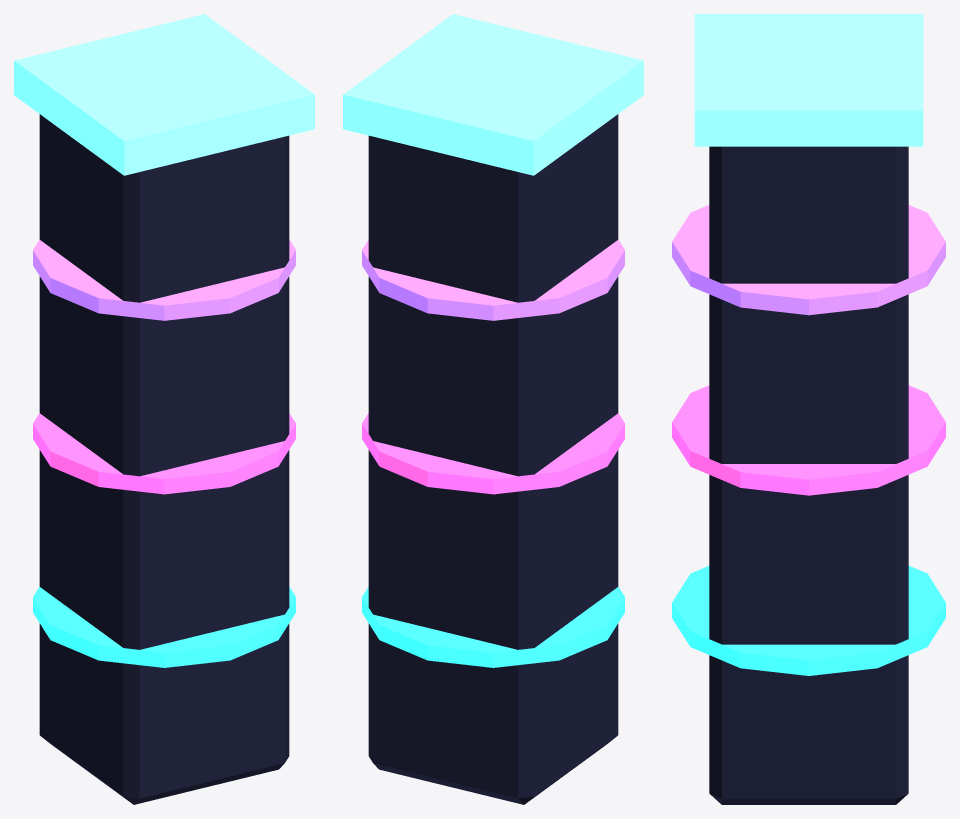
Rendered from hd_neon_pylon.gltf.
3 views of the same model, side by side, from view 1: azimuth 30°, elevation 25°; view 2: azimuth 150°, elevation 25°; view 3: azimuth 270°, elevation 25° (orthographic). The views are drawn at different scales.
Visible parts, largest first — view 1: post, tip, ring0, ring1, ring2; view 2: post, tip, ring0, ring1, ring2; view 3: post, tip, ring2, ring0, ring1.
Boxes of the visible parts, left/top/right/bottom form: post: left=39, top=114, right=289, bottom=804; tip: left=14, top=14, right=314, bottom=175; ring0: left=33, top=587, right=295, bottom=667; ring1: left=33, top=413, right=295, bottom=494; ring2: left=33, top=239, right=295, bottom=320; post: left=368, top=114, right=618, bottom=804; tip: left=343, top=14, right=643, bottom=175; ring0: left=362, top=587, right=624, bottom=667; ring1: left=362, top=413, right=624, bottom=494; ring2: left=362, top=239, right=624, bottom=320; post: left=709, top=146, right=908, bottom=804; tip: left=694, top=14, right=923, bottom=146; ring2: left=672, top=205, right=945, bottom=315; ring0: left=672, top=566, right=945, bottom=675; ring1: left=672, top=385, right=945, bottom=495.
Size of the model in its own units: 1.1 by 3.13 by 1.1.
